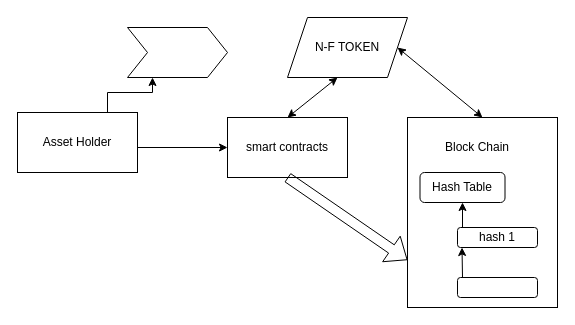
The diagram is 575 pixels wide and 325 high, and some of its shapes have lost their labels. Here are the shapes that lost their labels. From the top down, the box of each, then its label:
(126, 26, 228, 78): wallet
(456, 276, 538, 298): hash 2
